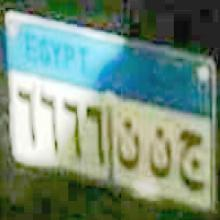6: (84, 102, 107, 166), (39, 90, 58, 158), (62, 99, 82, 158), (18, 87, 35, 144)
jeem: (176, 130, 204, 191)
noon: (115, 115, 142, 172), (148, 127, 172, 181)
